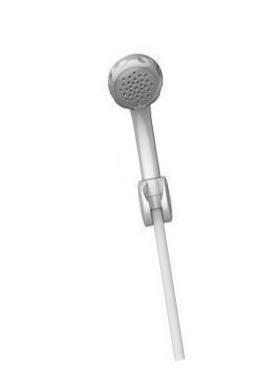Ducha: (99, 51, 221, 355)
